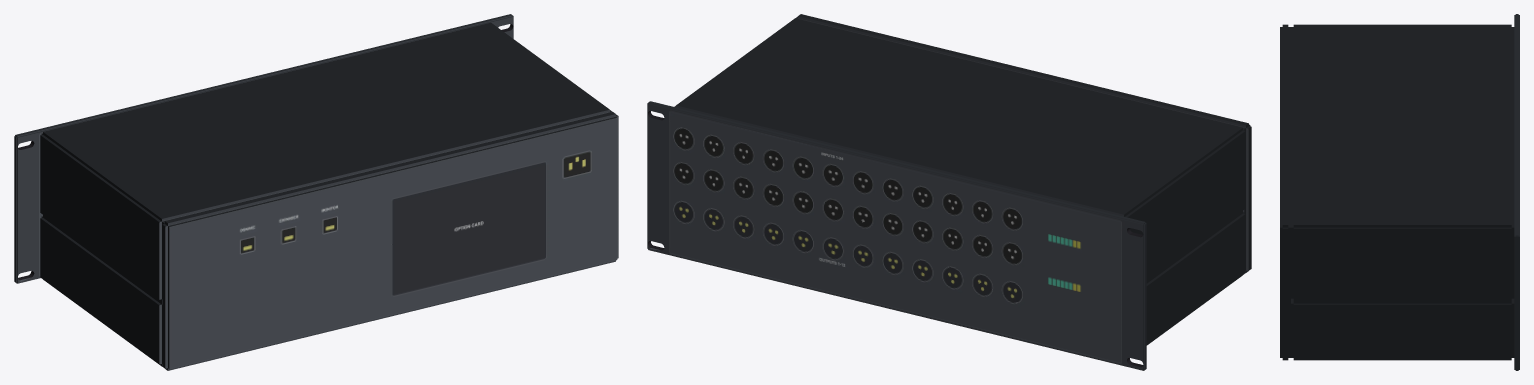
Rendered from allen-heath-ar2412.glb.
3 views of the same model, side by side, from view 1: azimuth 30°, elevation 25°; view 2: azimuth 150°, elevation 25°; view 3: azimuth 270°, elevation 25° (orthographic). The views are drawn at different scales.
Visible parts, largest first — view 1: allen-heath-ar2412-body; view 2: allen-heath-ar2412-body; view 3: allen-heath-ar2412-body.
Part boxes in pixels (<box>): allen-heath-ar2412-body: <box>14,14,618,370</box>; allen-heath-ar2412-body: <box>647,14,1251,370</box>; allen-heath-ar2412-body: <box>1280,14,1519,370</box>.
Bounding box in the file's own units: 0.483 × 0.137 × 0.22.
1 material, 1 textured.
